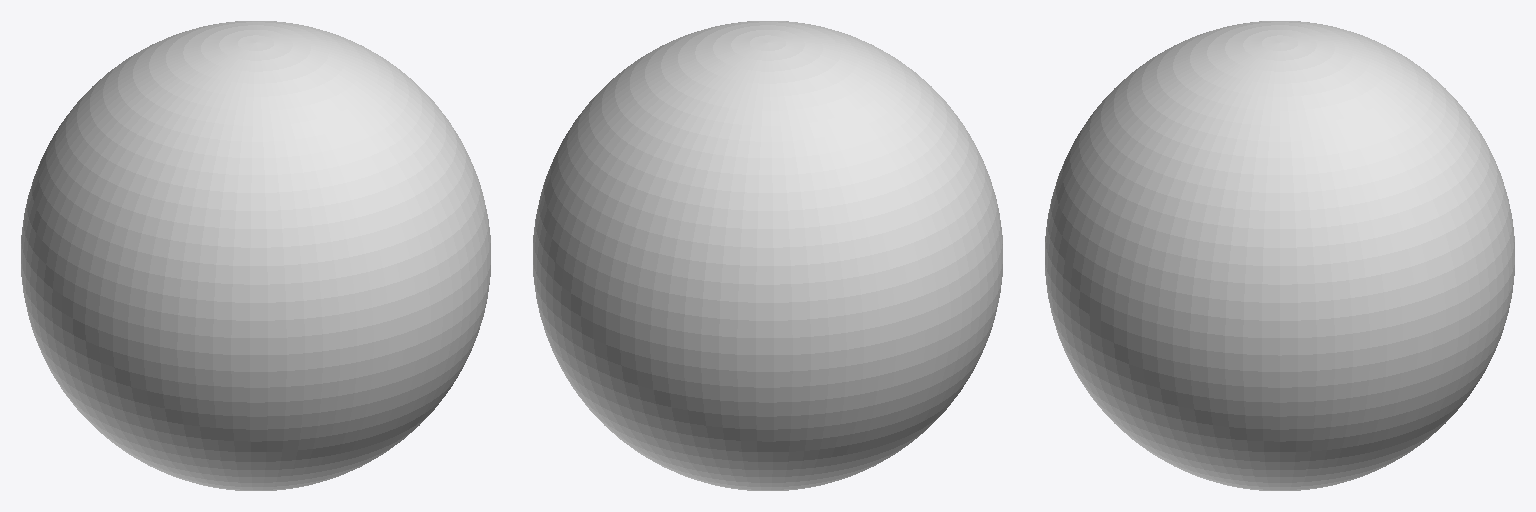
The model's file is Moon.obj.
3 renders of one model, left to right at view 1: azimuth 30°, elevation 25°; view 2: azimuth 150°, elevation 25°; view 3: azimuth 270°, elevation 25°, orthographic.
Visible parts, largest first — view 1: Mars_Sphere; view 2: Mars_Sphere; view 3: Mars_Sphere.
Part boxes in pixels (x1,y1,x2,y2): Mars_Sphere: (21,21,490,490); Mars_Sphere: (533,21,1002,490); Mars_Sphere: (1045,21,1514,490).
Size of the model in its own units: 8.32 by 8.32 by 8.32.